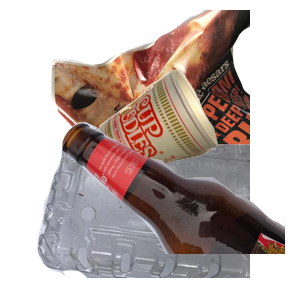glass: (60, 120, 300, 300)
paper: (49, 10, 289, 190)
plastic: (35, 120, 275, 300)
trash: (95, 67, 300, 238)
